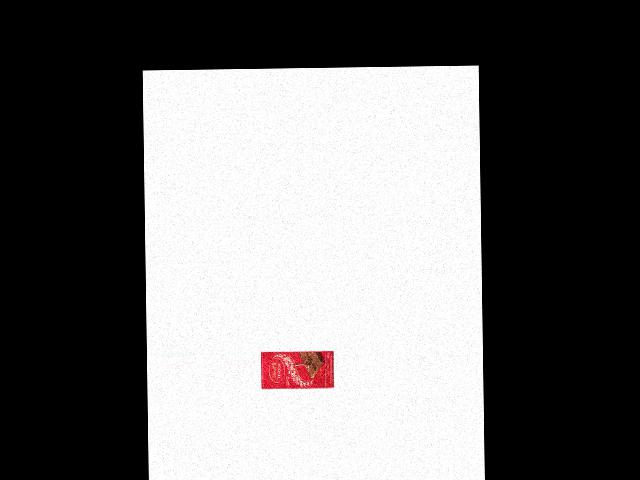chocolate: (261, 347, 333, 390)
